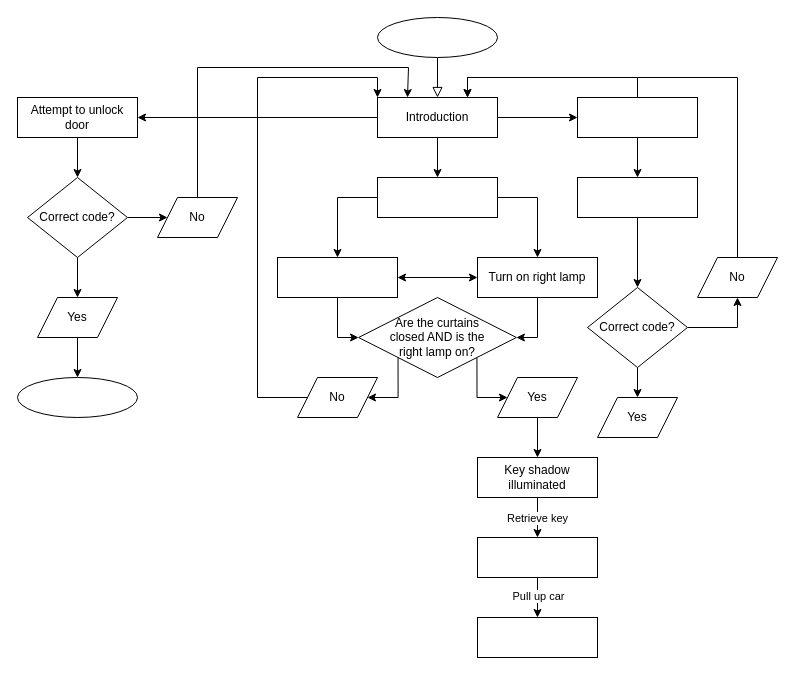
The diagram is 795 pixels wide and 675 high, and some of its shapes have lost their labels. The shapes that lost their labels are listed below. From the top down, each one's centre as x and y in pixels, then its label:
At (437,37): "Start".
At (637,117): "Reveal safe behind painting".
At (437,197): "Find Key to Dumbwaiter".
At (637,197): "Attempt to open safe".
At (337,277): "Close Curtains".
At (77,397): "Level End".
At (537,557): "Unlock Dumbwaiter".
